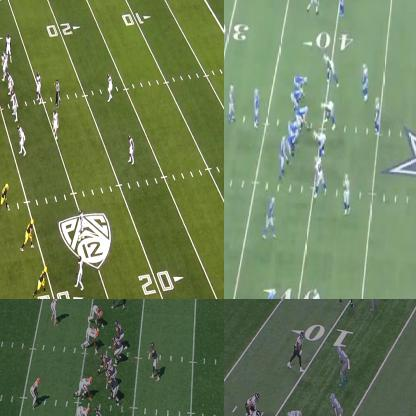CENTER: (298, 104, 311, 131), (102, 353, 113, 371)
DB: (338, 346, 350, 384), (76, 256, 84, 288), (129, 135, 136, 165), (78, 211, 84, 237), (6, 33, 12, 58), (337, 0, 347, 15), (367, 299, 380, 309), (108, 74, 113, 99), (312, 290, 320, 298)
LB: (340, 177, 352, 210), (330, 394, 346, 415), (361, 62, 370, 99), (29, 376, 40, 406), (51, 107, 60, 135), (51, 299, 61, 323), (374, 97, 380, 136), (0, 49, 6, 70), (37, 73, 41, 99)
QB: (149, 341, 160, 382), (255, 86, 258, 127)
SKILL: (292, 333, 306, 368), (264, 197, 276, 237), (279, 135, 287, 182), (24, 218, 36, 249), (34, 267, 48, 291), (228, 86, 236, 120), (305, 0, 321, 17), (247, 392, 261, 410), (0, 182, 9, 207), (258, 286, 275, 298), (112, 299, 125, 308), (96, 407, 108, 415), (343, 299, 356, 306)
